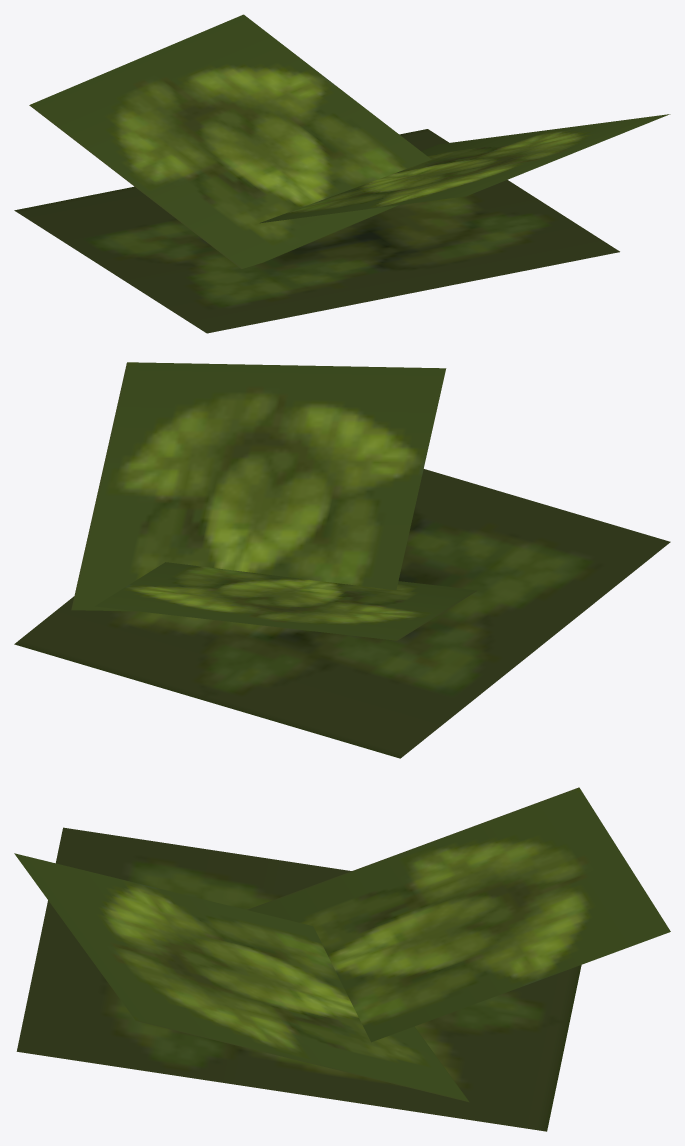
The model's file is dec_Short_Bush_09_96898.glb.
3 renders of one model, top to bottom at view 1: azimuth 30°, elevation 25°; view 2: azimuth 150°, elevation 25°; view 3: azimuth 270°, elevation 25°, orthographic. The views are drawn at different scales.
Visible parts, largest first — view 1: Short_Bush_09_mesh; view 2: Short_Bush_09_mesh; view 3: Short_Bush_09_mesh.
Part boxes in pixels (x1,y1,x2,y2): Short_Bush_09_mesh: (14,14,670,333); Short_Bush_09_mesh: (14,362,670,758); Short_Bush_09_mesh: (14,787,670,1131).
Bounding box in the file's own units: 0.4837 × 0.1364 × 0.4765.
1 material, 1 textured.
